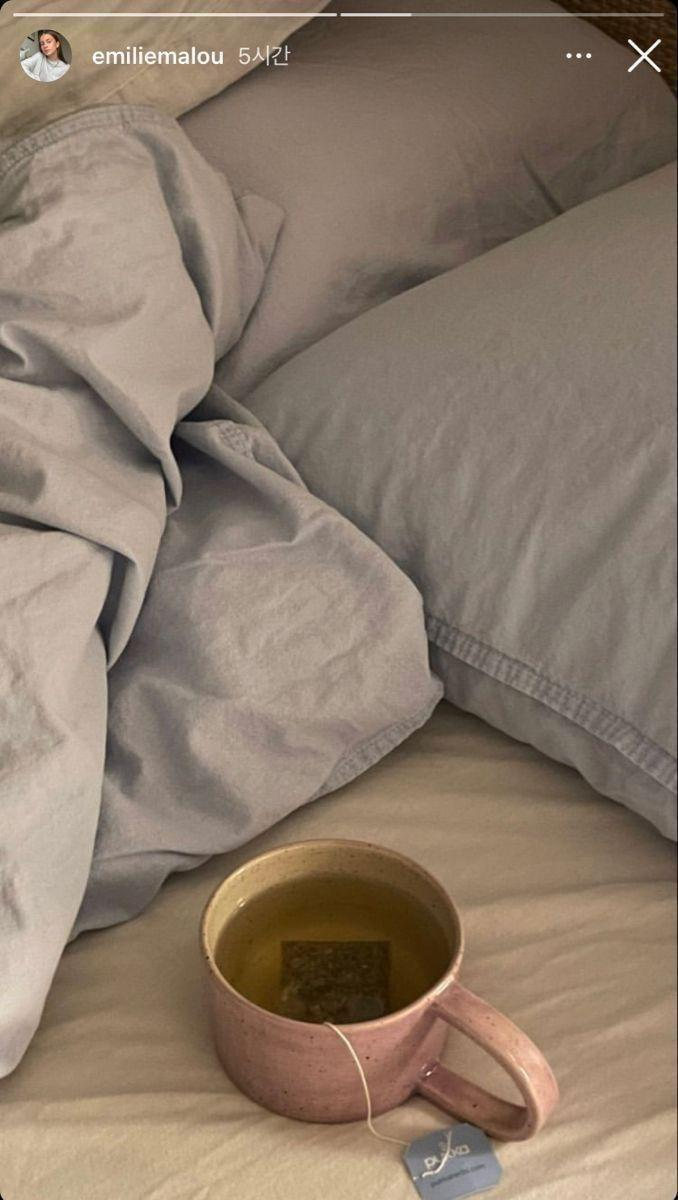cup-handle: (197, 836, 563, 1140)
